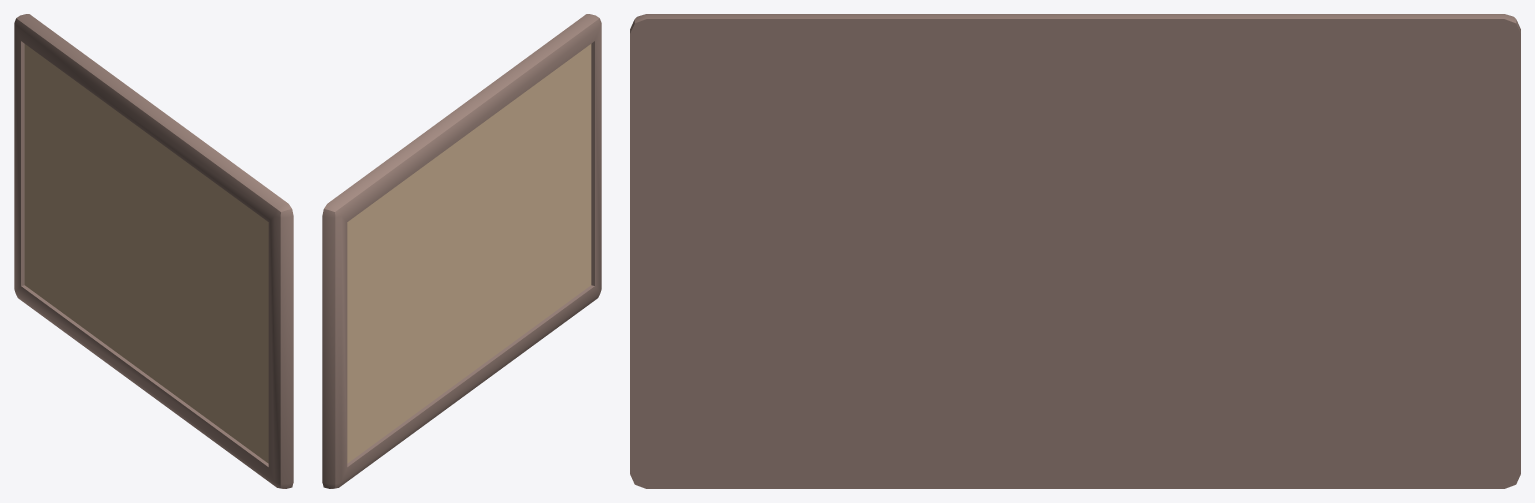
Rendered from Board01.fbx.
The picture shows the model from 3 angles, left to right: view 1: azimuth 30°, elevation 25°; view 2: azimuth 150°, elevation 25°; view 3: azimuth 270°, elevation 25°; orthographic projection. The views are drawn at different scales.
Visible parts, largest first — view 1: Board01; view 2: Board01; view 3: Board01.
Boxes of the visible parts, <box> form: Board01: <box>14,14,293,488</box>; Board01: <box>322,14,601,488</box>; Board01: <box>630,14,1520,488</box>.
Size of the model in its own units: 0.04 by 1.32 by 0.766.
